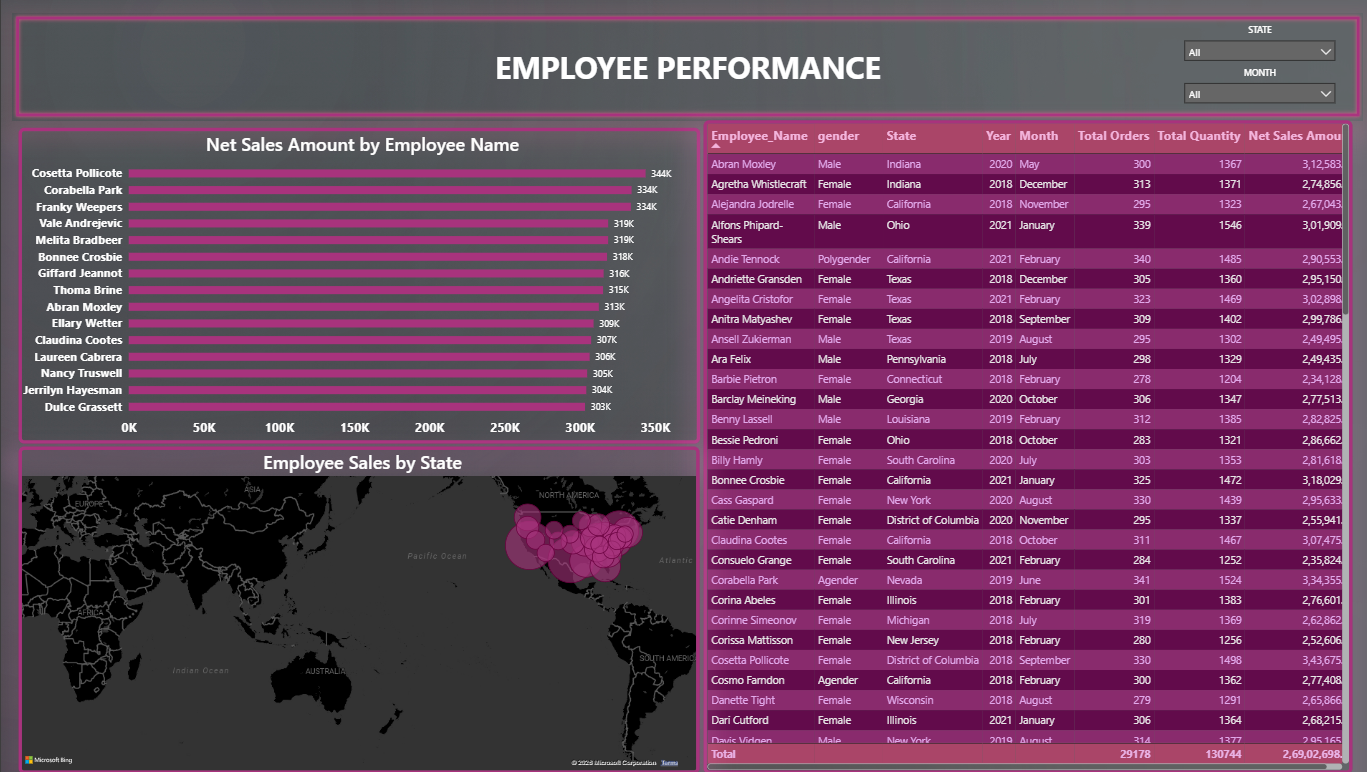

The page's visual inventory and layout, read from the dashboard file:
{"tool":"powerbi","page":{"name":"EMPLOYEE PERFORMANCE","canvas":[1920,1080],"ordinal":4},"visuals":[{"type":"shape","title":"HOME APPLIANCE & ELECTRONICS SALES ANALYTICS","box":[0,18.5,1885.4,150.3],"z":0},{"type":"clusteredBarChart","title":"Net Sales Amount by Employee Name","fields":{"Y":["_MEASURES.Net Sales Amount"],"Category":["employee.full name"]},"box":[24.7,179.1,950.9,440.5],"z":1000},{"type":"tableEx","fields":{"Values":["employee.full name","employee.gender","employee.State","employee.Joining Date.Variation.Date Hierarchy.Year","employee.Joining Date.Variation.Date Hierarchy.Month","_MEASURES.Total Orders","_MEASURES.Total Quantity","_MEASURES.Net Sales Amount"]},"box":[979.8,168.8,905.7,911.8],"z":2000},{"type":"map","title":"Employee Sales by State","fields":{"Category":["employee.State"],"Size":["_MEASURES.Net Sales Amount"]},"box":[16.5,625.7,959.2,454.9],"z":3000},{"type":"slicer","title":"STATE","fields":{"Values":["employee.State"]},"box":[1646.7,35,220,58.3],"z":4000},{"type":"slicer","title":"MONTH","fields":{"Values":["Calendar.Year-Month"]},"box":[1646.7,93.3,220,63.3],"z":5000}]}

Visuals, with their boxes in screenshot pixels (x1, y1, x2, y2), scaled from the page's 1920x1080 canvas onto the 1367x772 screenshot:
"HOME APPLIANCE & ELECTRONICS SALES ANALYTICS" shape: 0:13:1342:121
"Net Sales Amount by Employee Name" clusteredBarChart: 18:128:695:443
tableEx - employee.full name x employee.gender: 698:121:1342:771
"Employee Sales by State" map: 12:447:695:771
"STATE" slicer: 1172:25:1329:67
"MONTH" slicer: 1172:67:1329:112
